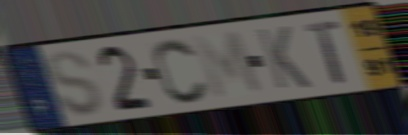2: (96, 44, 154, 114)
C: (152, 36, 211, 106)
K: (253, 24, 314, 91)
M: (190, 28, 267, 102)
S: (46, 49, 104, 119)
T: (302, 18, 349, 85)
